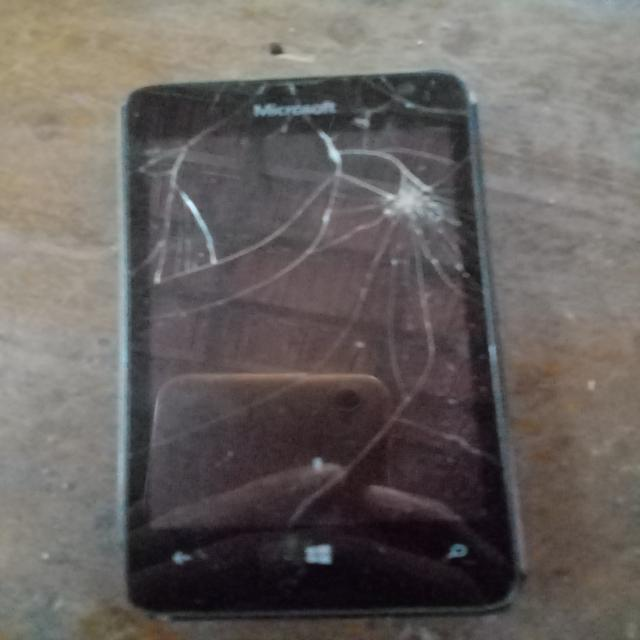screen crack: (126, 82, 494, 523)
